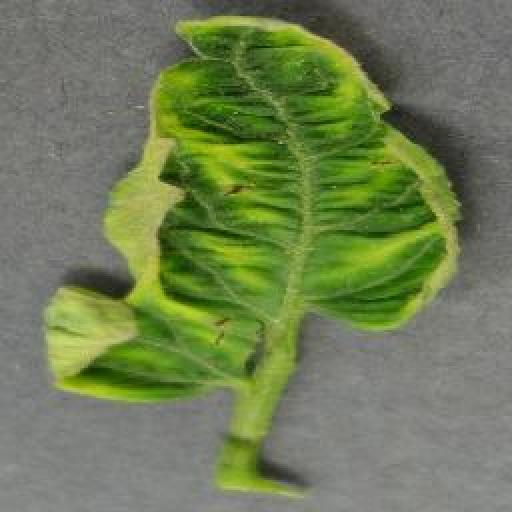disease_tomato: (43, 6, 462, 402)
